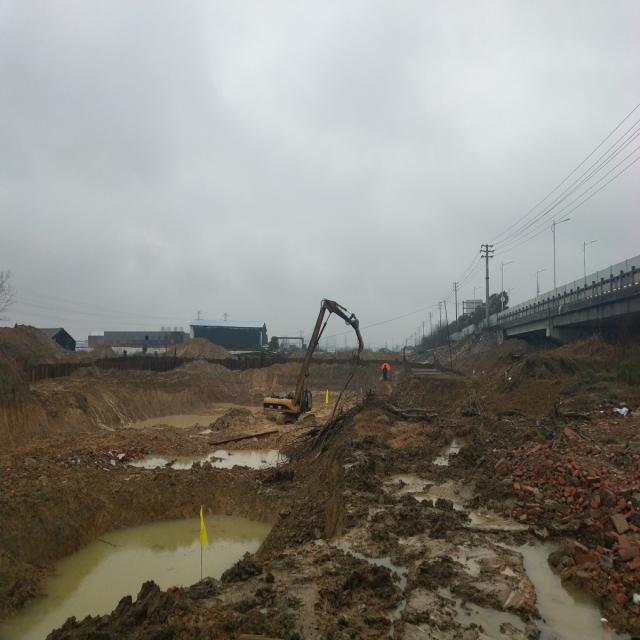excavator: (263, 297, 359, 425)
